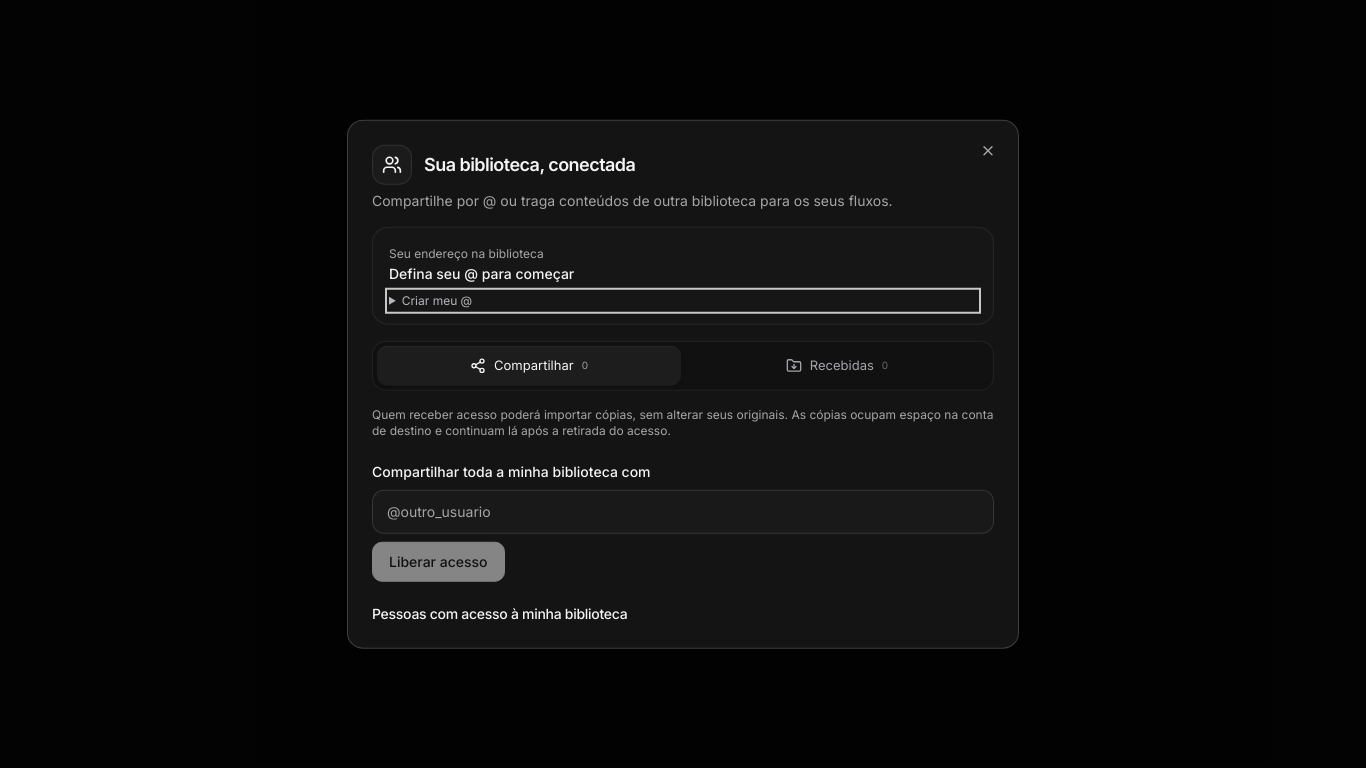
Test: library sharing dialog › shows import failures without marking media as copied
Click the tab "Recebidas 0" at x=837, y=366, box [685,346,989,385]
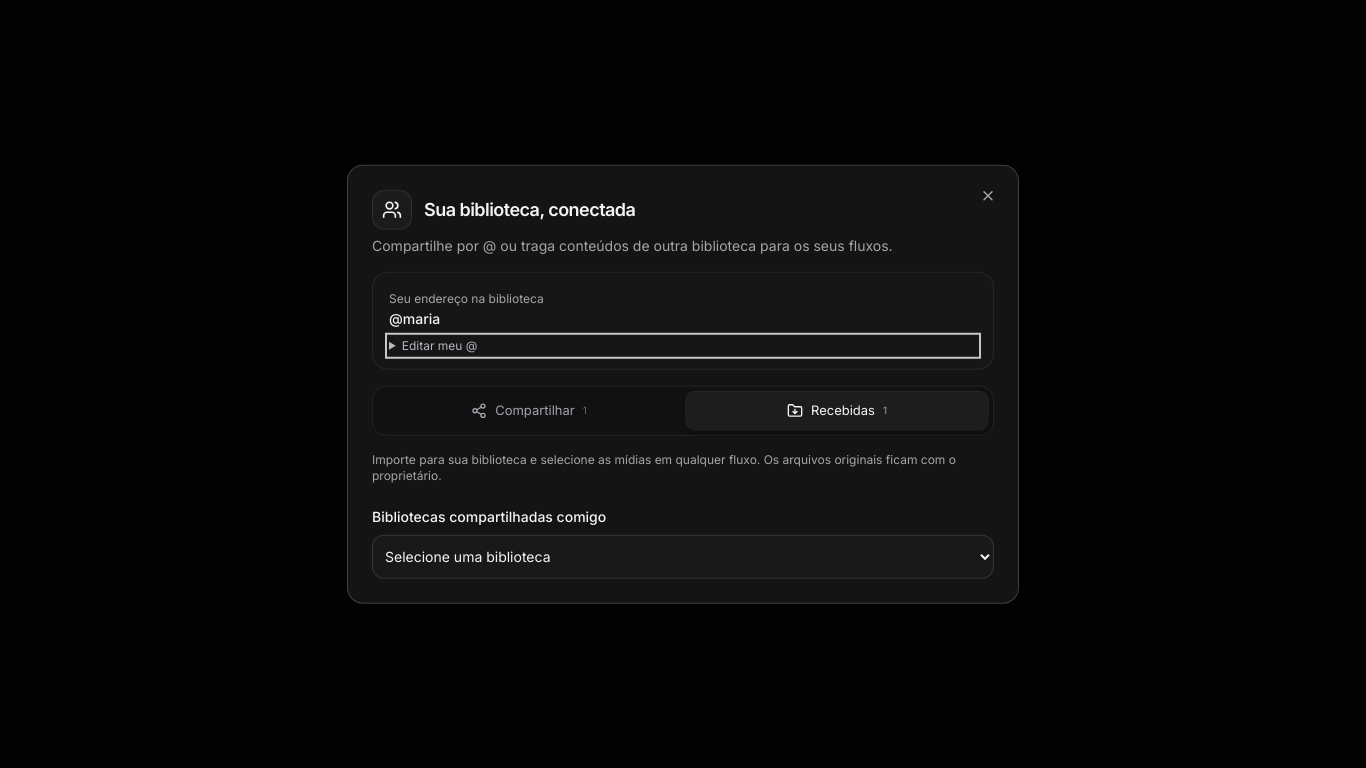
Select "@ana" in the dropdown labelled "Bibliotecas compartilhadas comigo" at x=683, y=556, box [372,534,994,578]
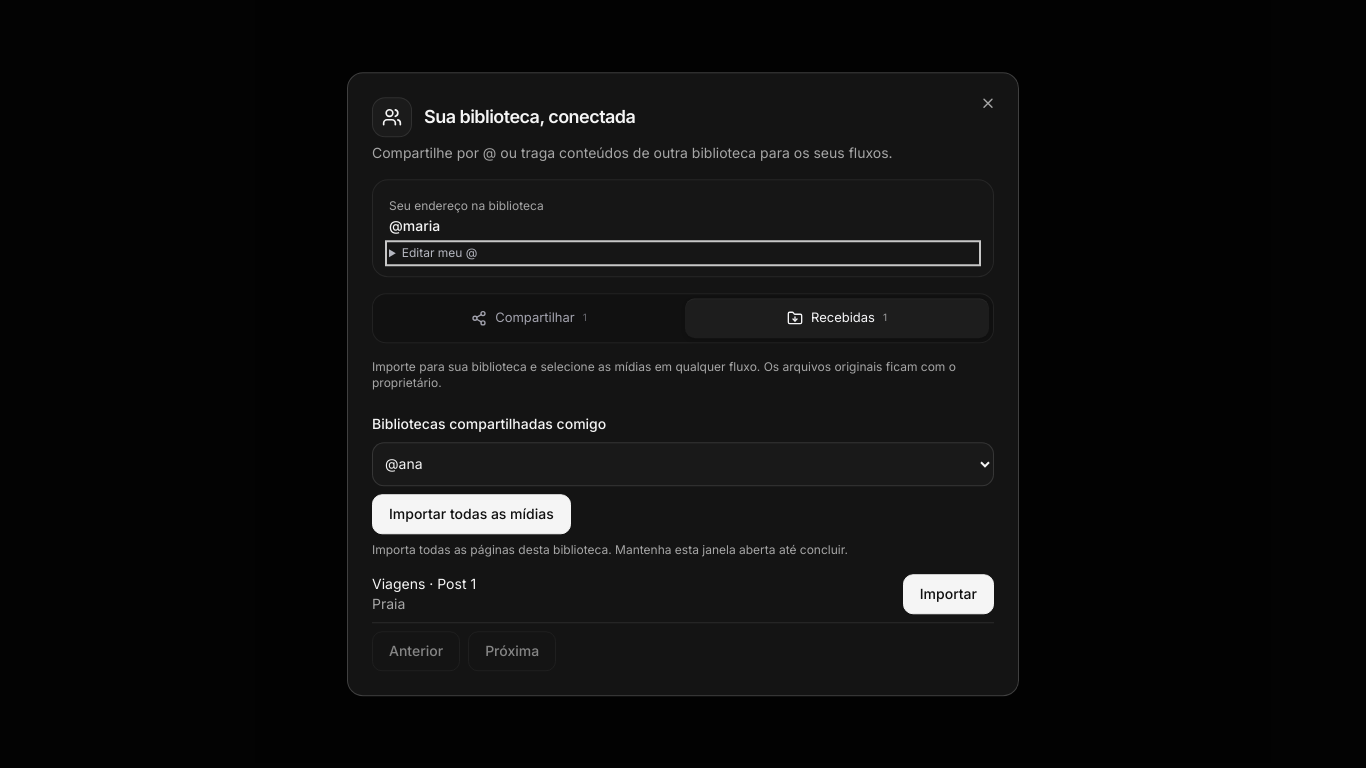
Click the button "Importar" at x=948, y=594, box [903,574,994,614]
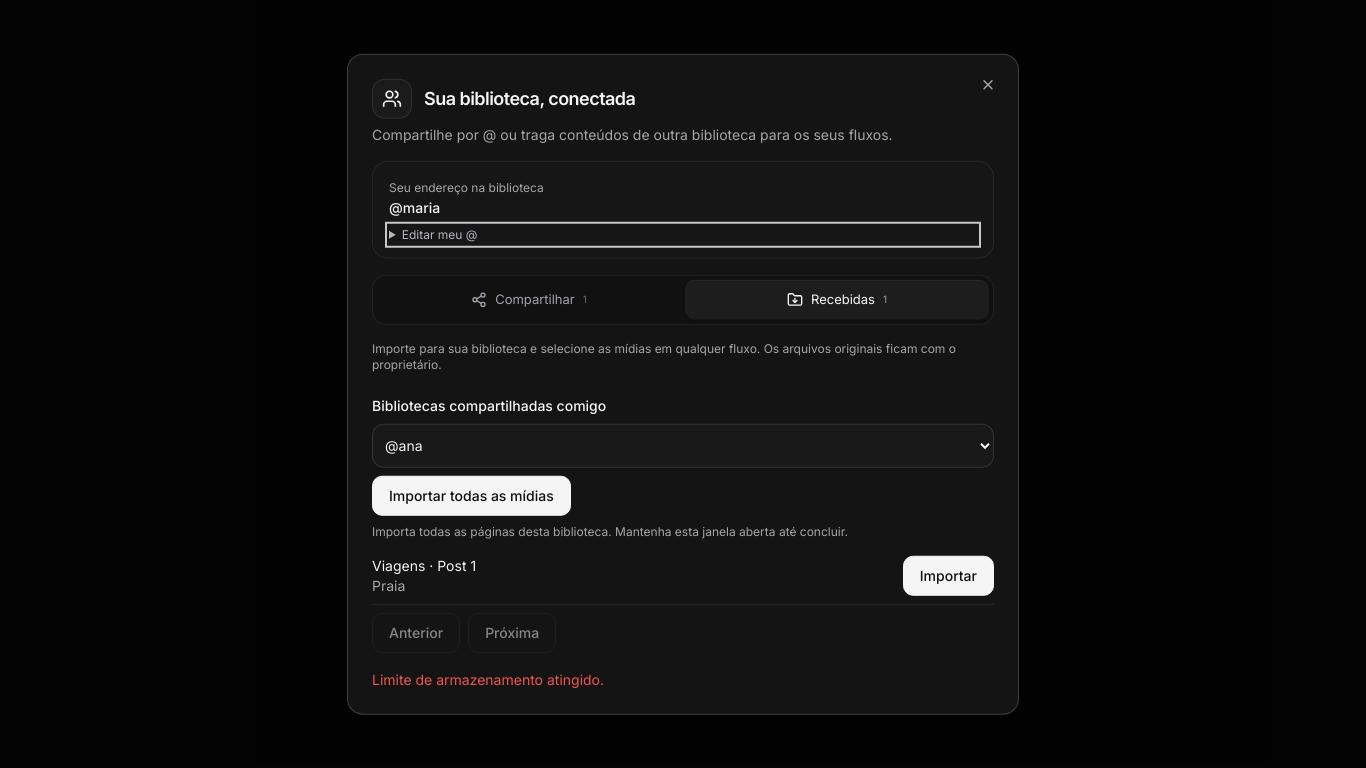
Now the button "Importar" is enabled, box [903,555,994,595]
Now the message reads "Limite de armazenamento atingido.", box [372,670,604,687]
